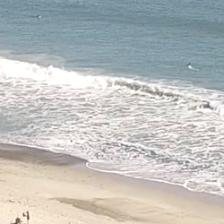surfer: (186, 62, 193, 67), (30, 15, 40, 18)
